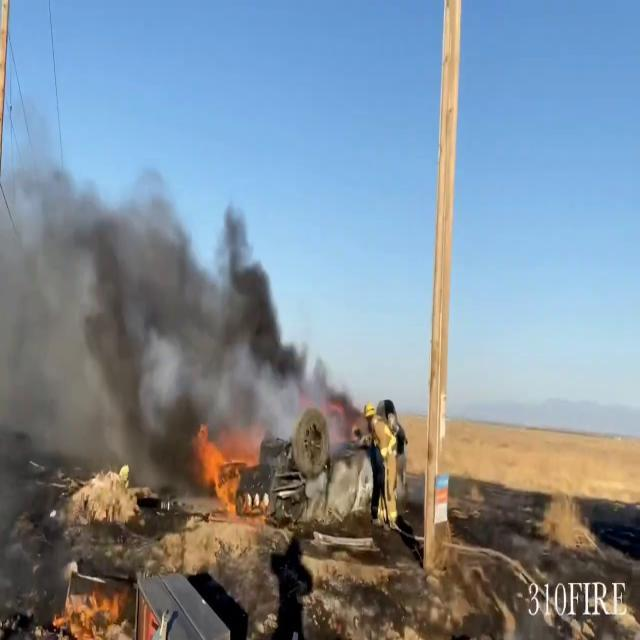Fire: (194, 428, 266, 524)
Smoke: (0, 140, 308, 516)
